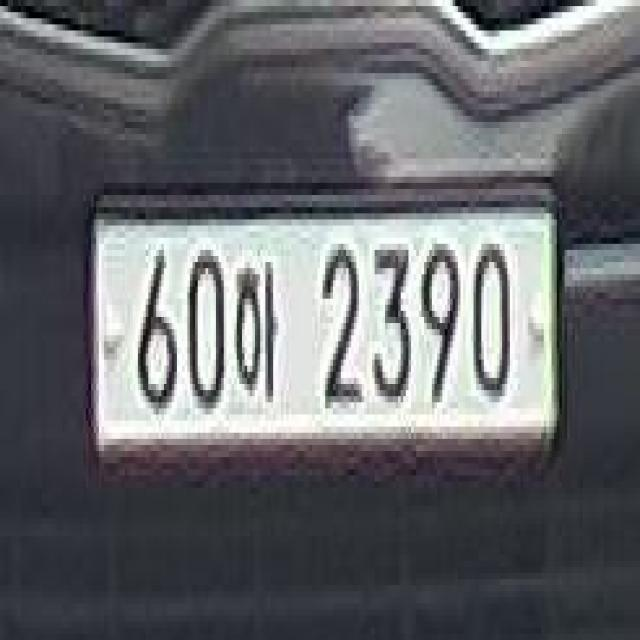0: (466, 232, 514, 398), (183, 237, 228, 409)
2: (320, 222, 368, 416)
3: (371, 237, 414, 405)
6: (132, 240, 178, 412)
9: (418, 234, 461, 409)
ha: (230, 245, 282, 403)
license_plate: (82, 175, 570, 476)
